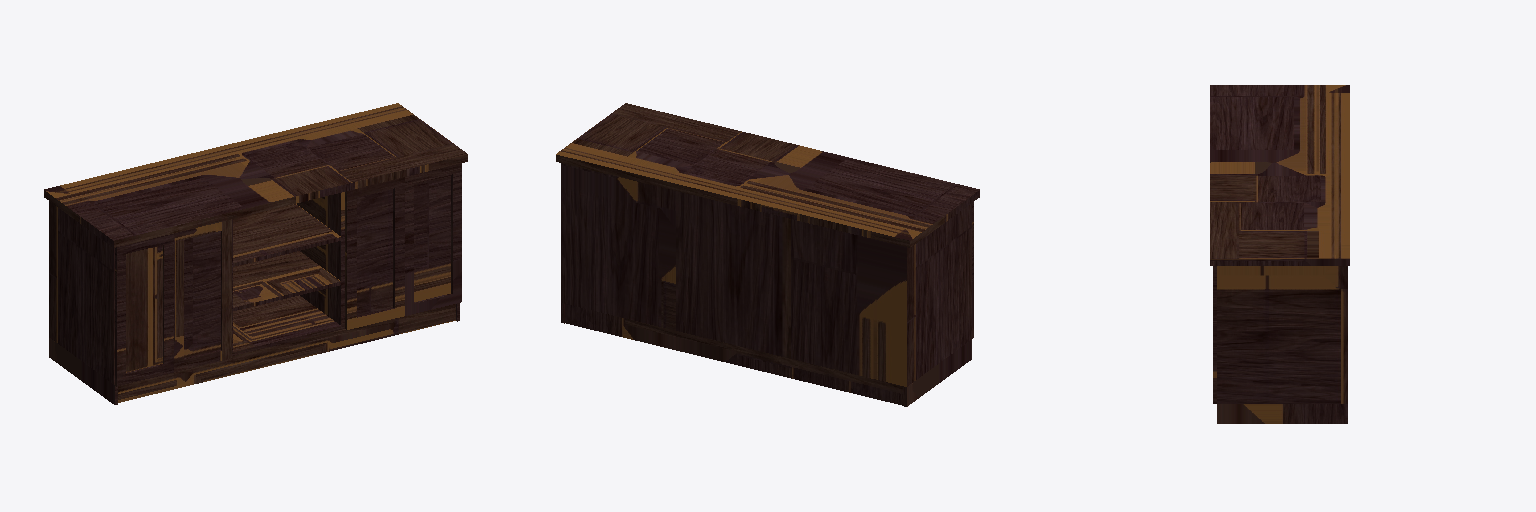
3 views of the same model, side by side, from view 1: azimuth 30°, elevation 25°; view 2: azimuth 150°, elevation 25°; view 3: azimuth 270°, elevation 25° (orthographic).
Visible parts, largest first — view 1: Wooden_Cabinet_Body, Wooden_Cabinet_Door_2, Wooden_Cabinet_Door_0, Wooden_Cabinet_Door_1, Wooden_Cabinet_Door_3; view 2: Wooden_Cabinet_Body; view 3: Wooden_Cabinet_Body, Wooden_Cabinet_Door_3.
Part boxes in pixels (left/top/right/bottom): Wooden_Cabinet_Body: left=44, top=103, right=467, bottom=404; Wooden_Cabinet_Door_2: left=345, top=177, right=404, bottom=329; Wooden_Cabinet_Door_0: left=115, top=234, right=173, bottom=386; Wooden_Cabinet_Door_1: left=174, top=219, right=231, bottom=371; Wooden_Cabinet_Door_3: left=405, top=163, right=461, bottom=315; Wooden_Cabinet_Body: left=556, top=103, right=979, bottom=406; Wooden_Cabinet_Body: left=1210, top=85, right=1349, bottom=423; Wooden_Cabinet_Door_3: left=1213, top=266, right=1216, bottom=403.
Size of the model in its own units: 1.85 by 0.836 by 0.6321.
Materials: 1 (1 with a texture image).